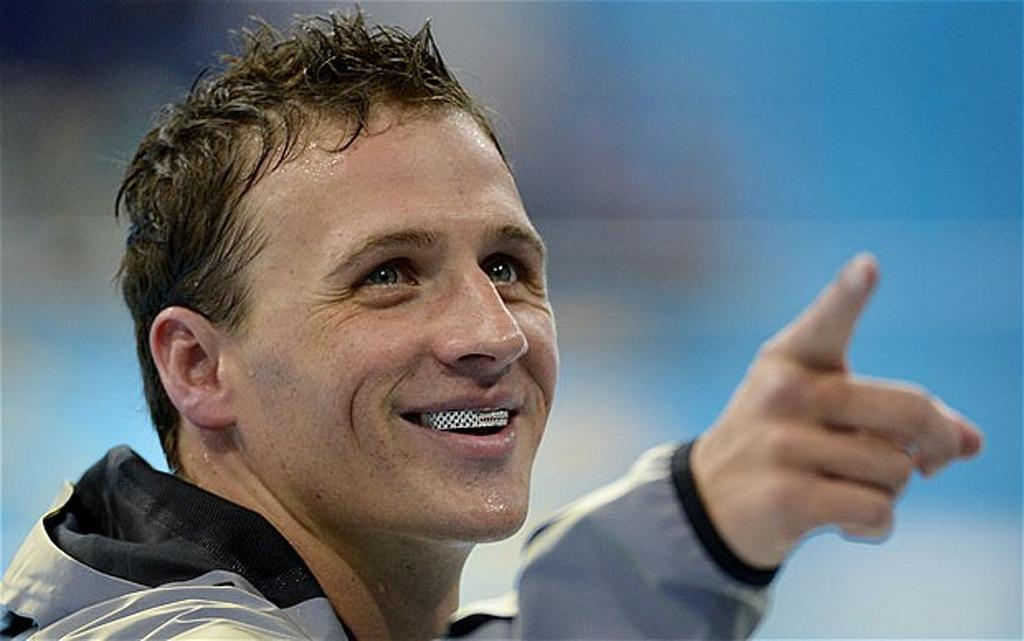face: (270, 144, 566, 536)
